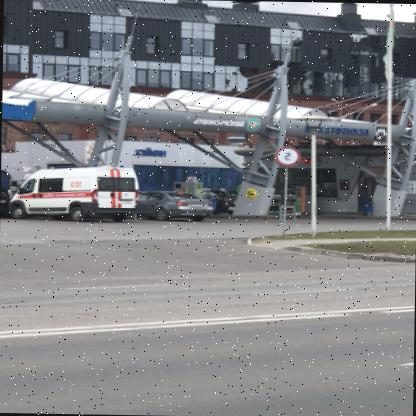speedlimit: (276, 144, 302, 165)
